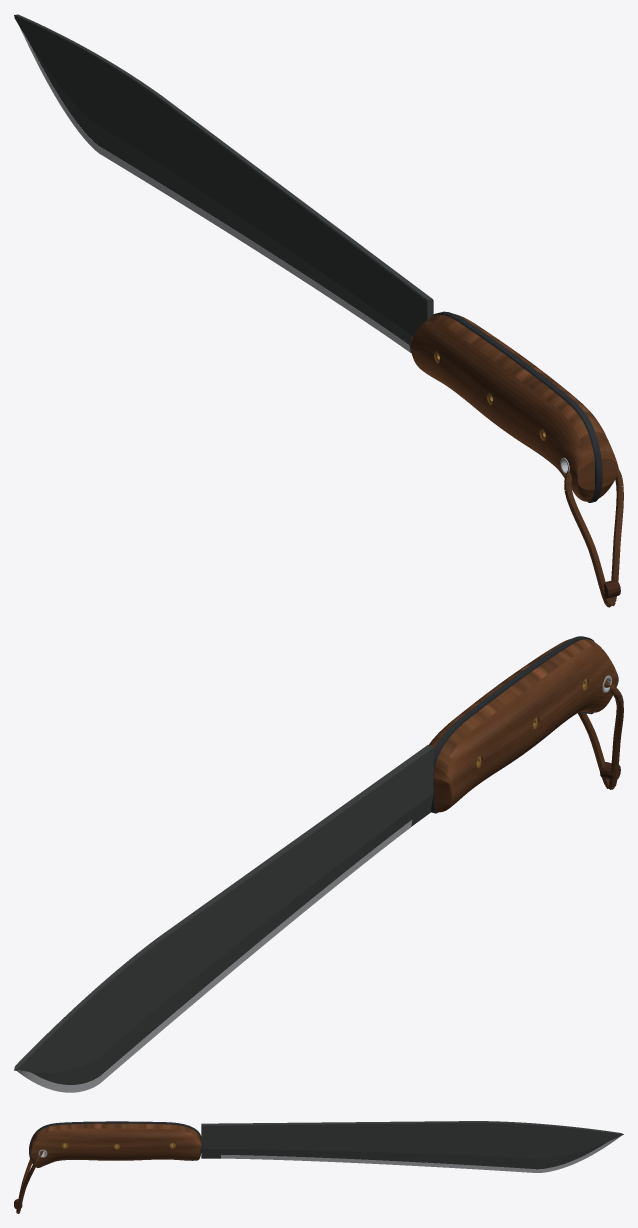
The model's file is facao.glb.
3 views of the same model, one above another, from view 1: azimuth 30°, elevation 25°; view 2: azimuth 150°, elevation 25°; view 3: azimuth 270°, elevation 25° (orthographic). The views are drawn at different scales.
Visible parts, largest first — view 1: facao_aco_fosfatado, facao_nogueira, facao_aco_inox, facao_couro, facao_aco_oxidado; view 2: facao_aco_fosfatado, facao_nogueira, facao_aco_inox, facao_couro, facao_aco_oxidado; view 3: facao_aco_fosfatado, facao_nogueira, facao_aco_inox, facao_aco_oxidado, facao_couro.
Part boxes in pixels (<box>): facao_aco_fosfatado: <box>14,14,433,352</box>; facao_nogueira: <box>411,314,618,501</box>; facao_aco_inox: <box>15,19,569,474</box>; facao_couro: <box>564,469,623,607</box>; facao_aco_oxidado: <box>431,311,602,502</box>; facao_aco_fosfatado: <box>14,745,433,1084</box>; facao_nogueira: <box>429,638,618,812</box>; facao_aco_inox: <box>17,675,611,1092</box>; facao_couro: <box>577,680,623,789</box>; facao_aco_oxidado: <box>431,636,594,813</box>; facao_aco_fosfatado: <box>201,1121,623,1169</box>; facao_nogueira: <box>30,1123,201,1167</box>; facao_aco_inox: <box>38,1135,621,1172</box>; facao_aco_oxidado: <box>29,1121,201,1167</box>; facao_couro: <box>16,1150,43,1213</box>.
Size of the model in its own units: 0.0272 by 0.082 by 0.4934.
7 materials, 2 textured.
